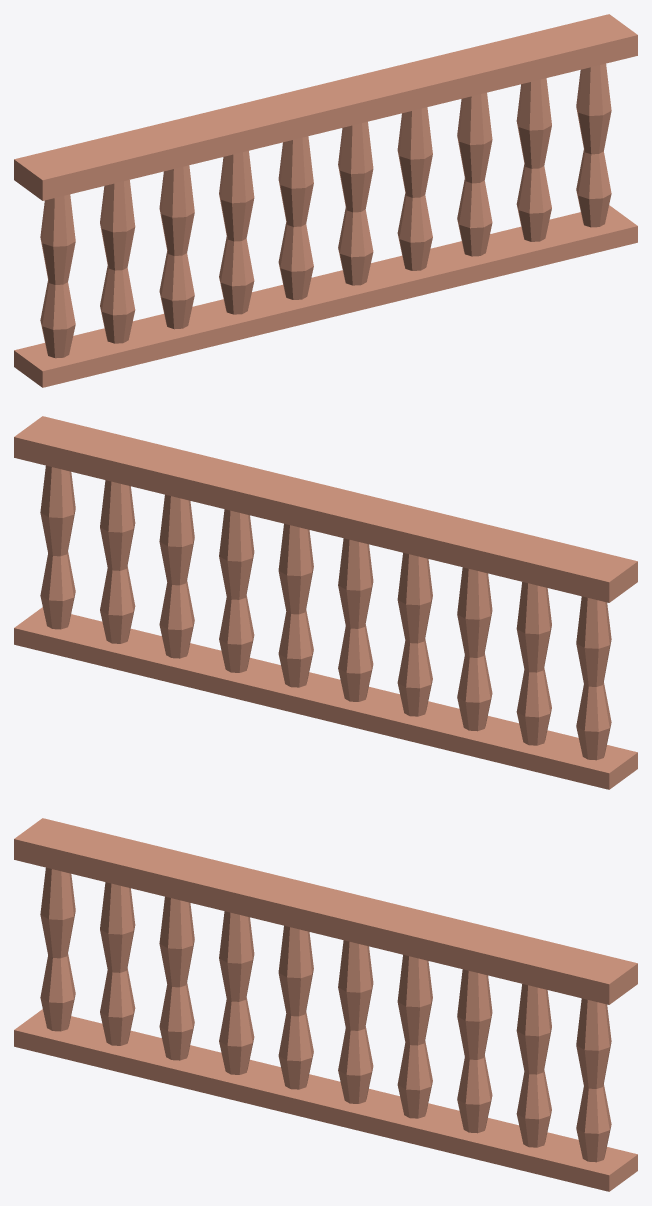
The model's file is kit_rail_marble.glb.
3 views of the same model, one above another, from view 1: azimuth 30°, elevation 25°; view 2: azimuth 150°, elevation 25°; view 3: azimuth 330°, elevation 25° (orthographic).
Visible parts, largest first — view 1: kit_rail_marble; view 2: kit_rail_marble; view 3: kit_rail_marble.
Part boxes in pixels (x1,y1,x2,y2): kit_rail_marble: [14, 14, 637, 387]; kit_rail_marble: [14, 416, 637, 789]; kit_rail_marble: [14, 818, 637, 1191].
Size of the model in its own units: 3 by 0.9999 by 0.2501.
